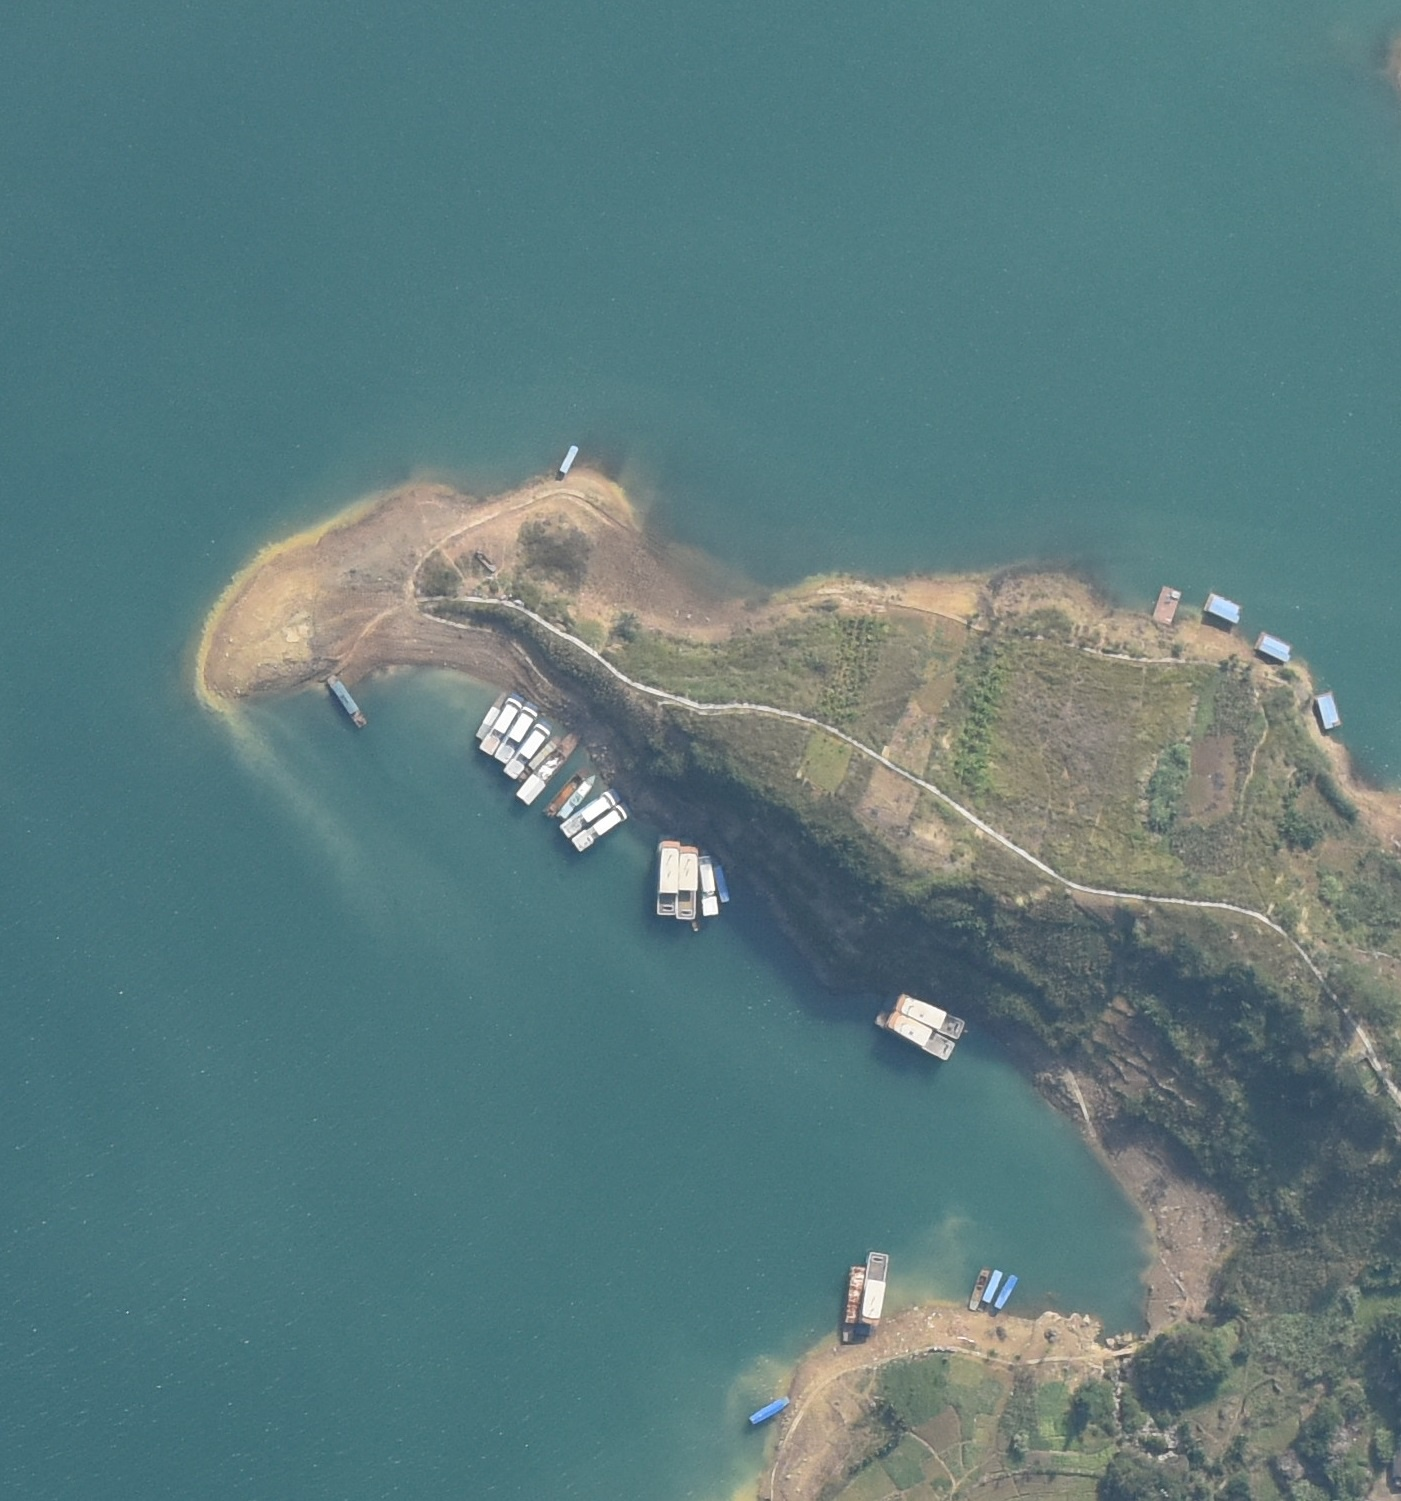prefabricated-house: (1203, 592, 1240, 623), (1315, 691, 1343, 729), (1153, 583, 1178, 625), (1255, 635, 1293, 660)
ship: (517, 729, 579, 804), (877, 1007, 955, 1063), (884, 989, 965, 1039), (560, 787, 619, 839), (573, 803, 628, 856), (502, 719, 550, 778), (492, 700, 536, 764), (857, 1246, 886, 1335), (481, 694, 523, 754), (325, 675, 367, 729), (544, 772, 585, 822), (517, 739, 560, 783), (657, 836, 678, 919), (477, 690, 510, 743), (841, 1265, 862, 1344), (697, 856, 722, 918), (560, 774, 594, 818), (677, 847, 697, 920), (749, 1396, 790, 1425), (995, 1275, 1019, 1311), (712, 860, 732, 903), (969, 1269, 988, 1311), (982, 1268, 999, 1303), (560, 444, 578, 475)
